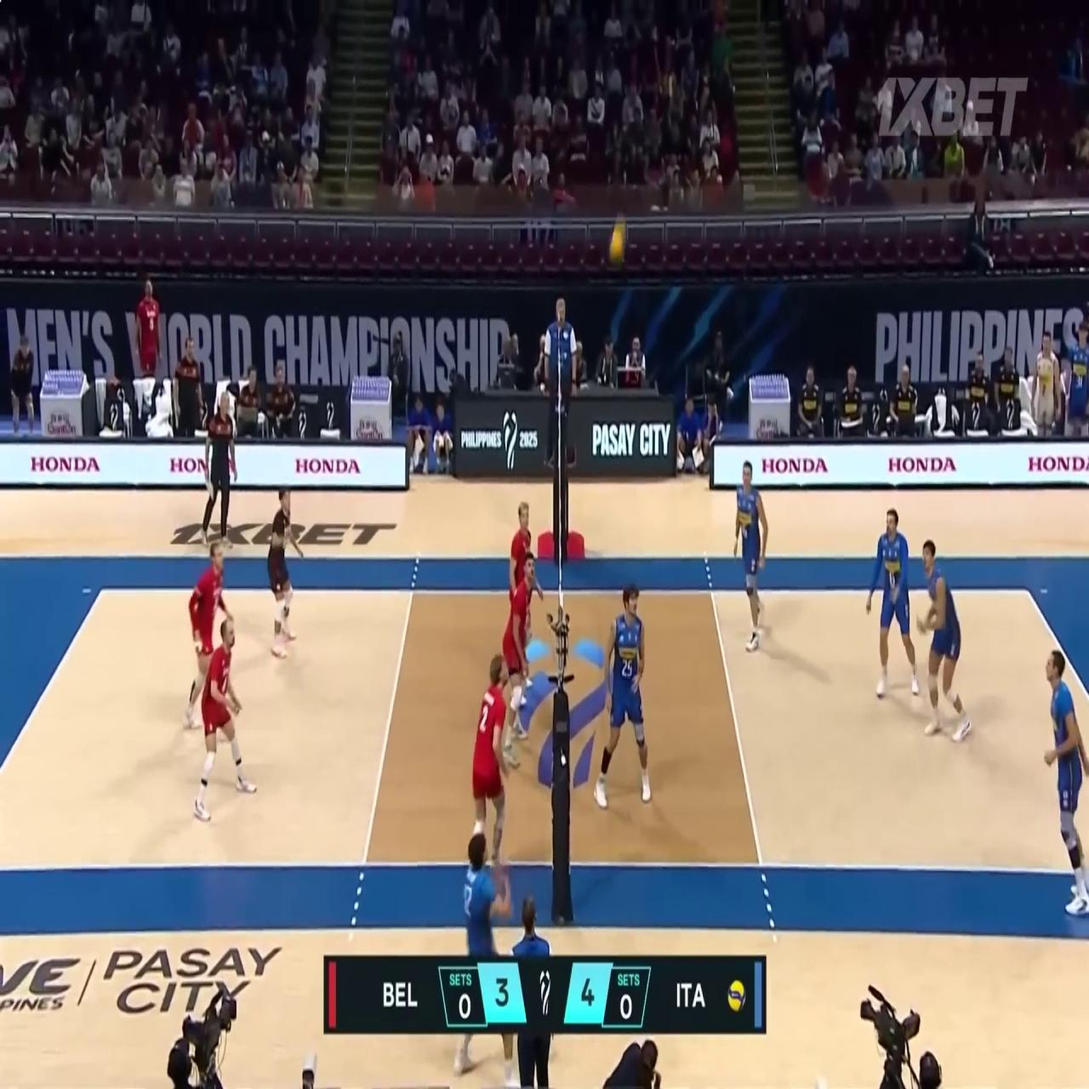ball: (610, 223, 625, 262)
